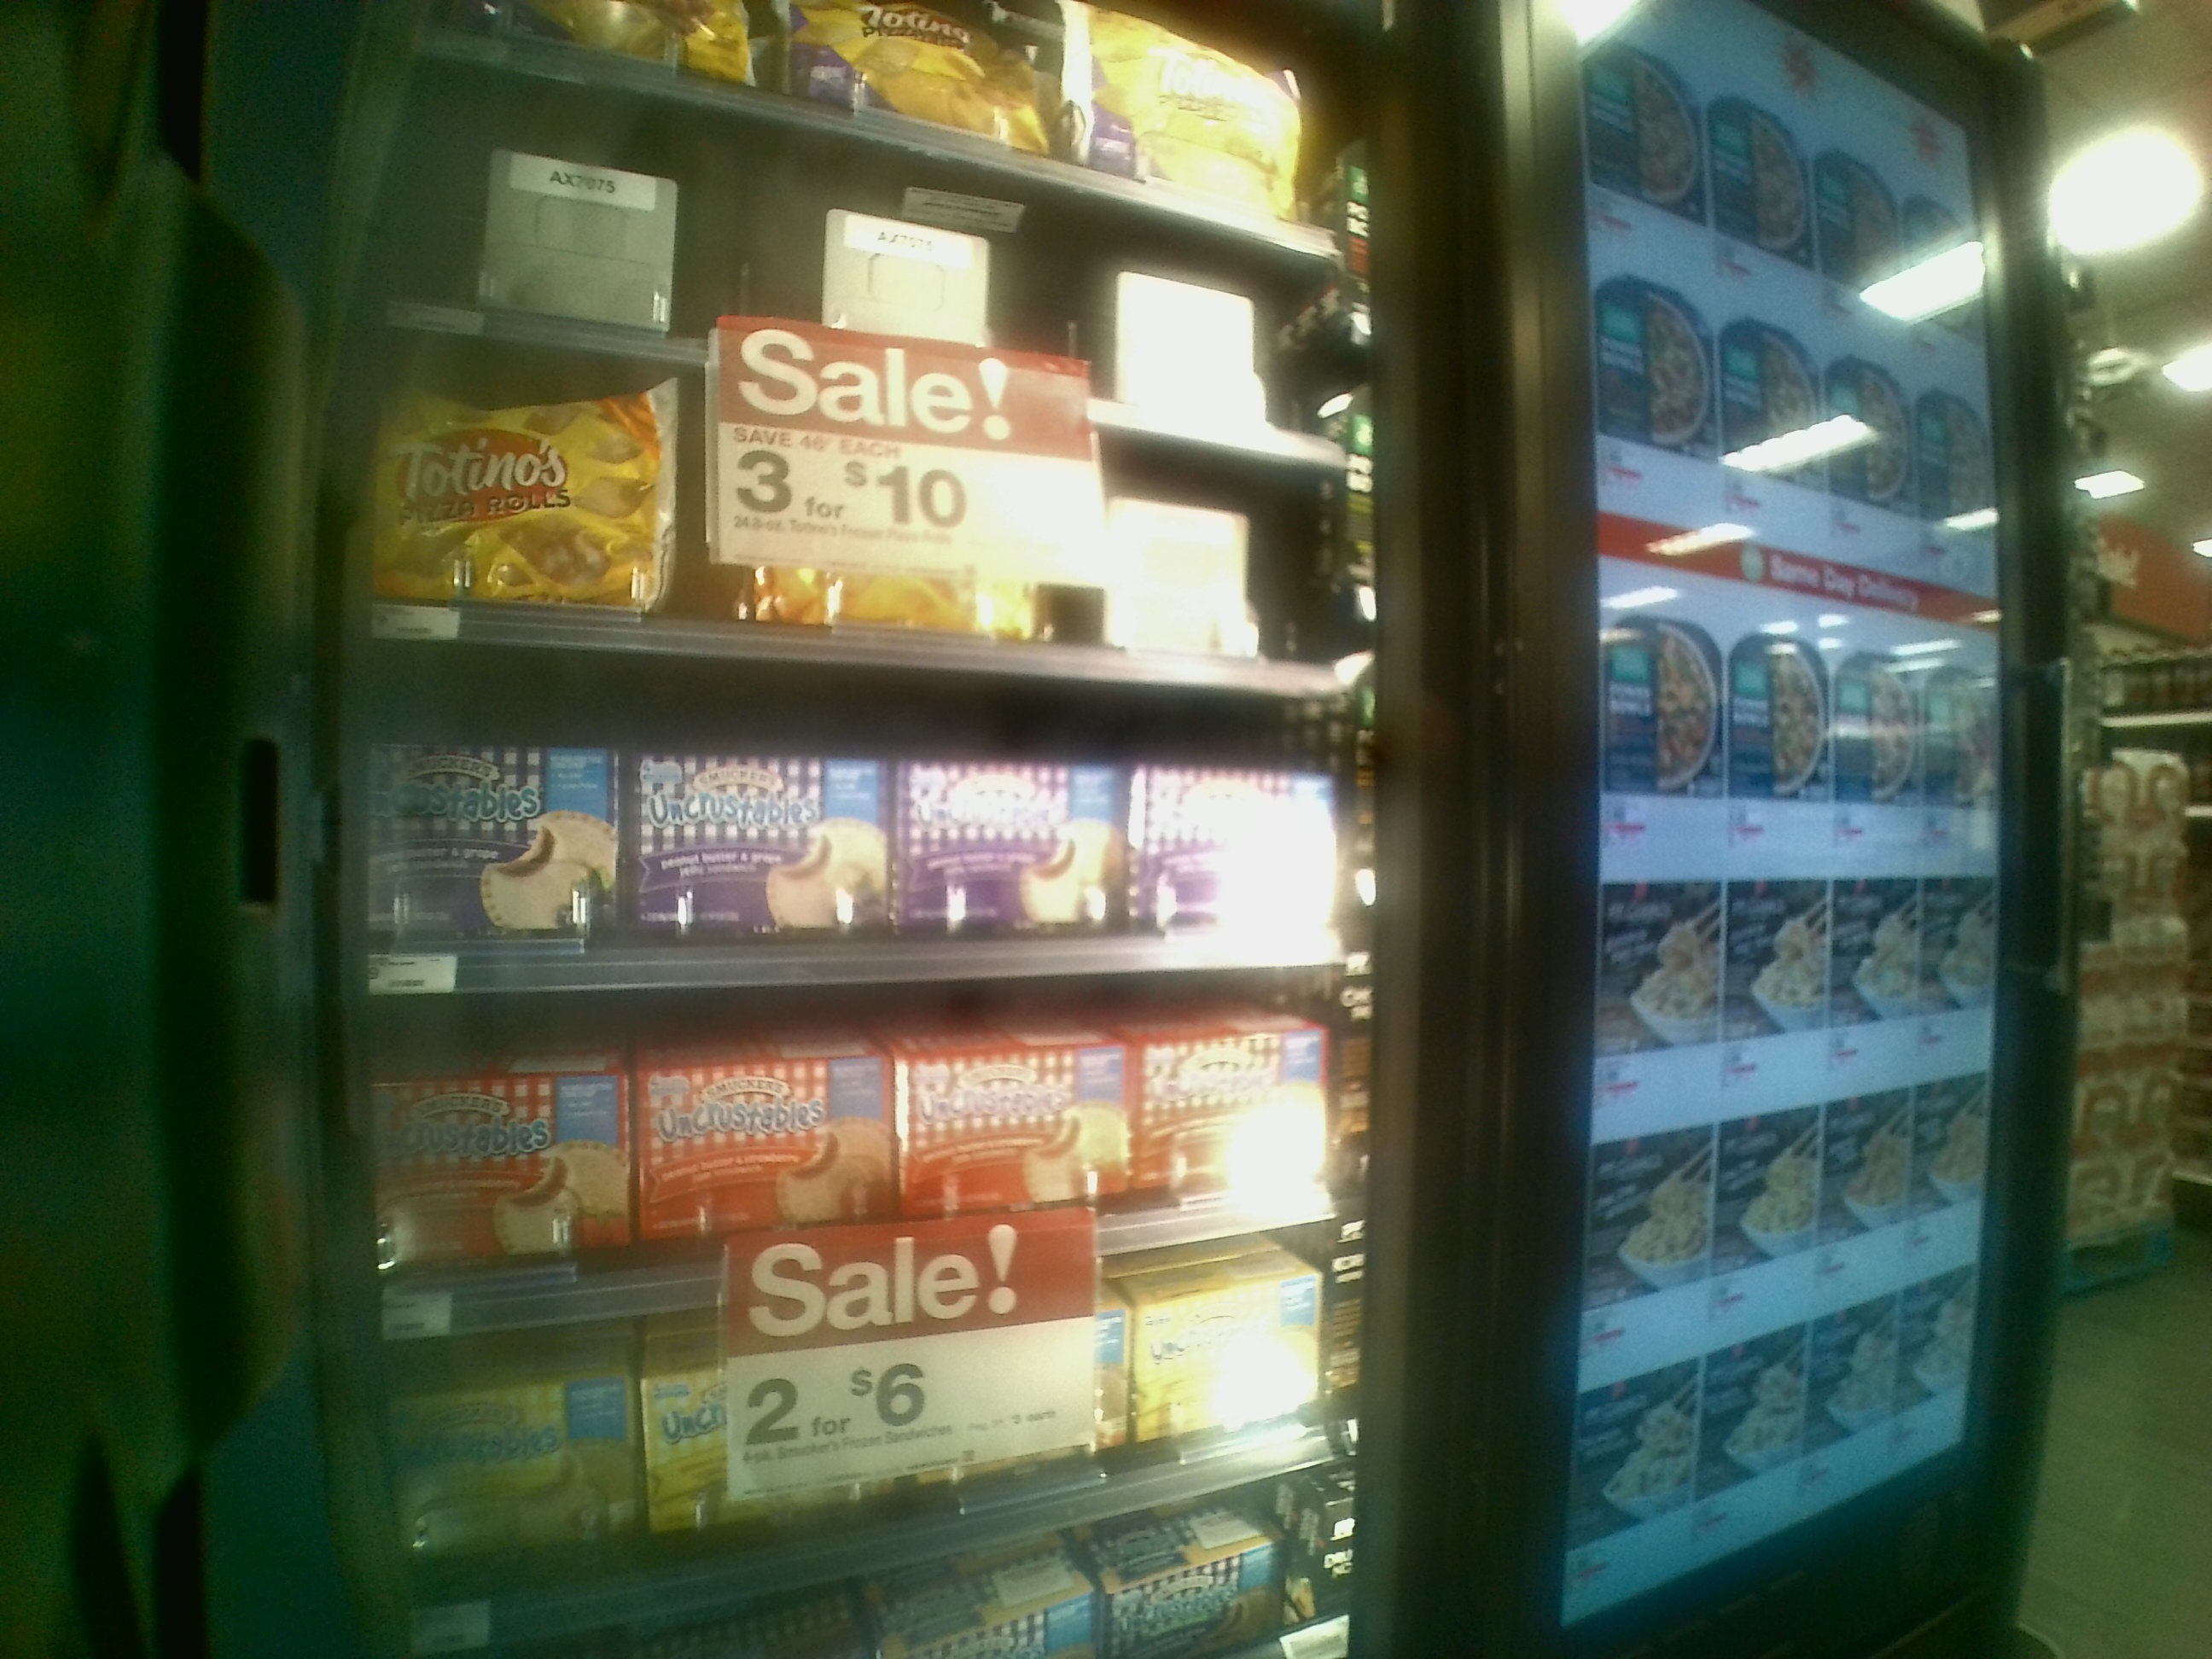shelf: (345, 1295, 1388, 1605), (347, 390, 1362, 701), (361, 978, 1353, 1288), (347, 690, 1362, 992), (359, 101, 1364, 396)
